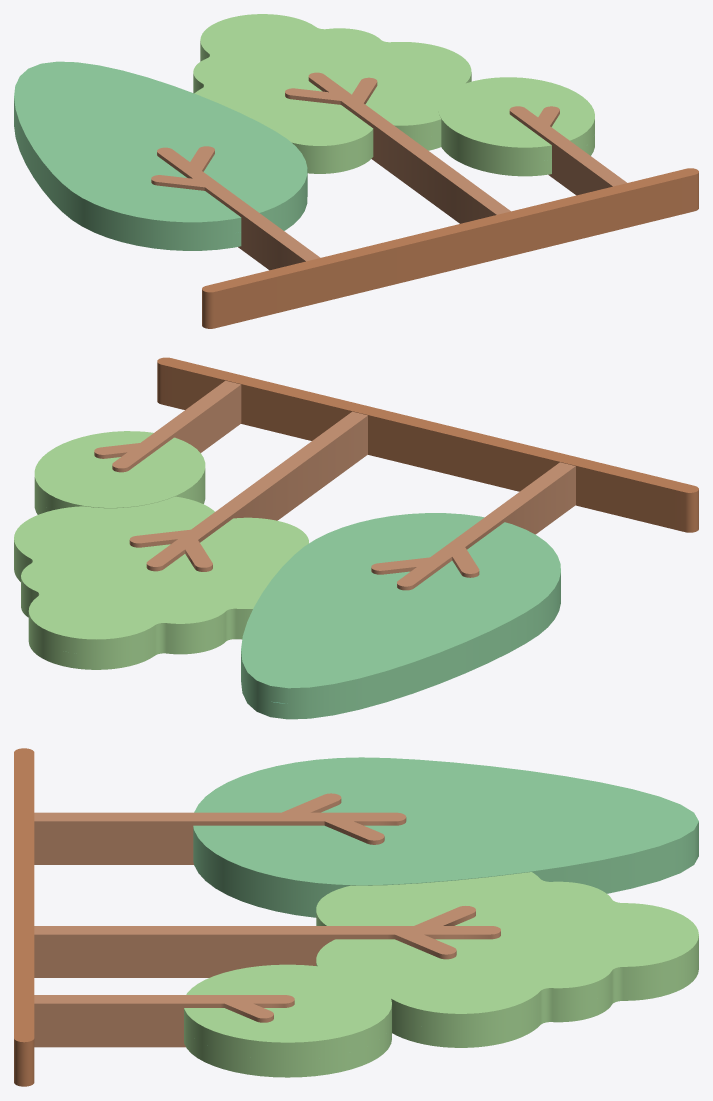
The model's file is pohon2.fbx.
3 views of the same model, one above another, from view 1: azimuth 30°, elevation 25°; view 2: azimuth 150°, elevation 25°; view 3: azimuth 270°, elevation 25° (orthographic). The views are drawn at different scales.
Parts seen in each view (by area): view 1: Curve.006, Curve.003, Curve.009, Curve, Curve.005, Curve.008, Curve.002; view 2: Curve.006, Curve.003, Curve.009, Curve, Curve.005, Curve.008, Curve.002; view 3: Curve.006, Curve.003, Curve, Curve.005, Curve.008, Curve.002, Curve.009.
Part boxes in pixels (box(x1,y1,x2,y2)): Curve.006: box(14, 61, 307, 250); Curve.003: box(193, 14, 471, 173); Curve.009: box(202, 168, 698, 328); Curve: box(438, 77, 594, 176); Curve.005: box(285, 72, 510, 223); Curve.008: box(151, 146, 320, 270); Curve.002: box(509, 106, 626, 195); Curve.006: box(241, 513, 560, 719); Curve.003: box(14, 496, 308, 669); Curve.009: box(157, 357, 698, 532); Curve: box(34, 431, 205, 514); Curve.005: box(129, 411, 367, 571); Curve.008: box(371, 462, 575, 590); Curve.002: box(94, 380, 241, 472); Curve.006: box(193, 757, 698, 917); Curve.003: box(316, 872, 698, 1047); Curve: box(184, 964, 391, 1077); Curve.005: box(34, 906, 500, 977); Curve.008: box(34, 793, 406, 864); Curve.002: box(34, 995, 294, 1047); Curve.009: box(14, 748, 34, 1086).
Bounding box in the file's own units: 14.45 × 1.02 × 14.24.
